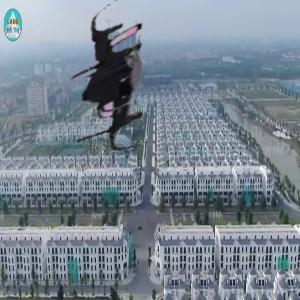drone: (37, 4, 190, 157)
